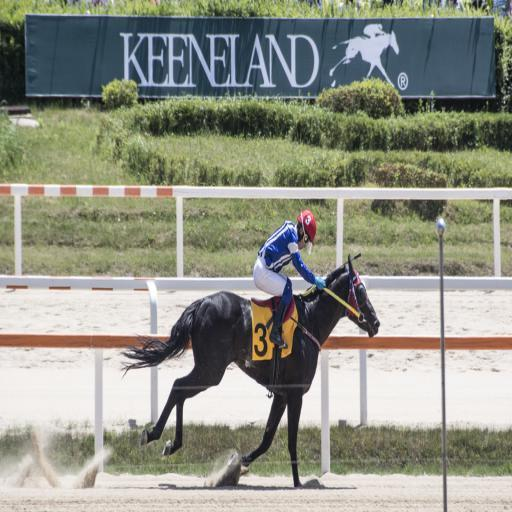horse: (118, 250, 379, 486)
